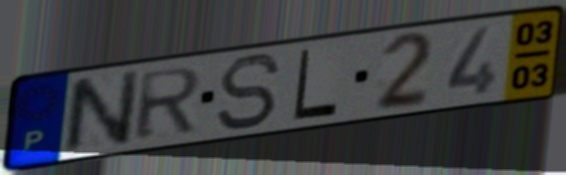2: (373, 30, 437, 116)
4: (444, 23, 500, 97)
L: (289, 46, 341, 123)
N: (60, 66, 143, 158)
R: (132, 64, 207, 144)
S: (213, 51, 285, 133)
